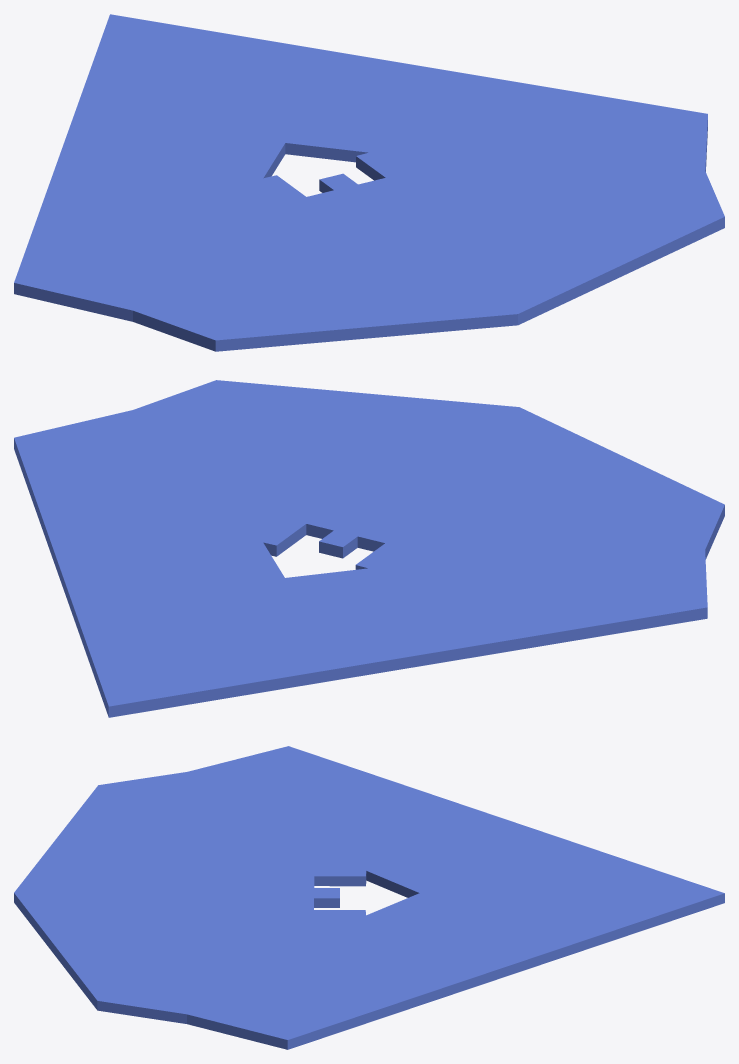
The model's file is House Plane Cutout.fbx.
3 renders of one model, top to bottom at view 1: azimuth 30°, elevation 25°; view 2: azimuth 150°, elevation 25°; view 3: azimuth 270°, elevation 25°, orthographic. The views are drawn at different scales.
Visible parts, largest first — view 1: House Plane Cutout; view 2: House Plane Cutout; view 3: House Plane Cutout.
Boxes of the visible parts, x1=… form: House Plane Cutout: x1=14, y1=14, x2=724, y2=351; House Plane Cutout: x1=14, y1=380, x2=724, y2=717; House Plane Cutout: x1=14, y1=746, x2=724, y2=1049.
Size of the model in its own units: 53.82 by 0.8371 by 55.
